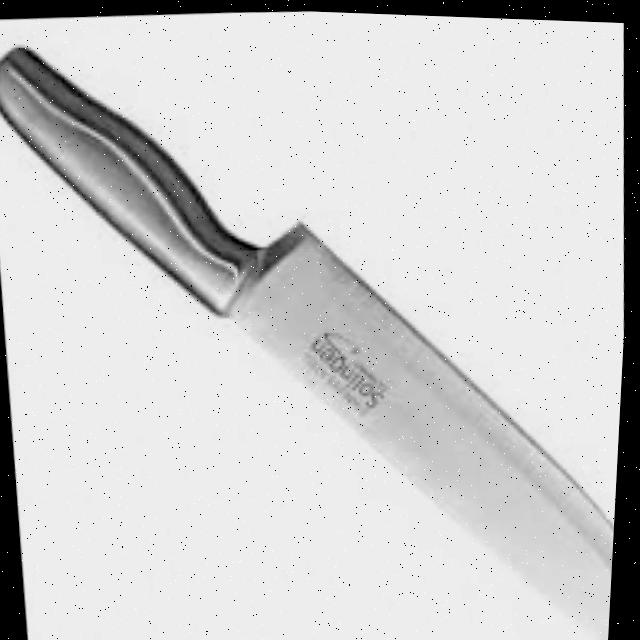knife: (0, 11, 640, 640)
